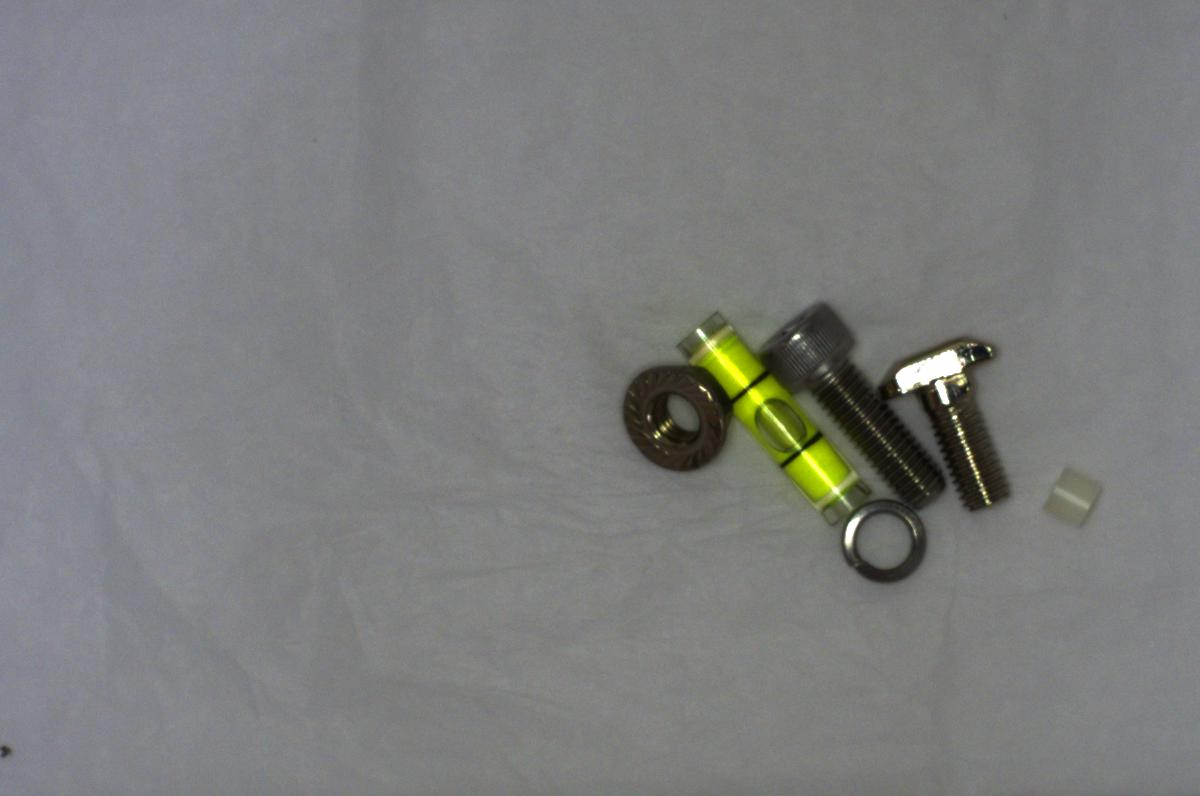Flange nut: (600, 362, 735, 480)
Hexagon screw: (750, 298, 942, 512)
Horizontal bubble: (671, 301, 869, 527)
Plastic cushion pillar: (1035, 455, 1107, 537)
Spring washer: (841, 499, 928, 589)
T-shaped screw: (891, 324, 1016, 509)
